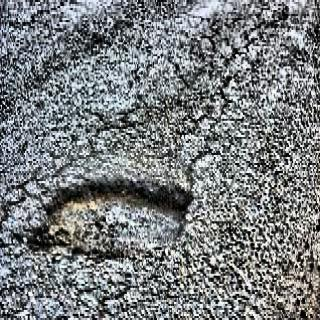pothole: (12, 160, 202, 306)
